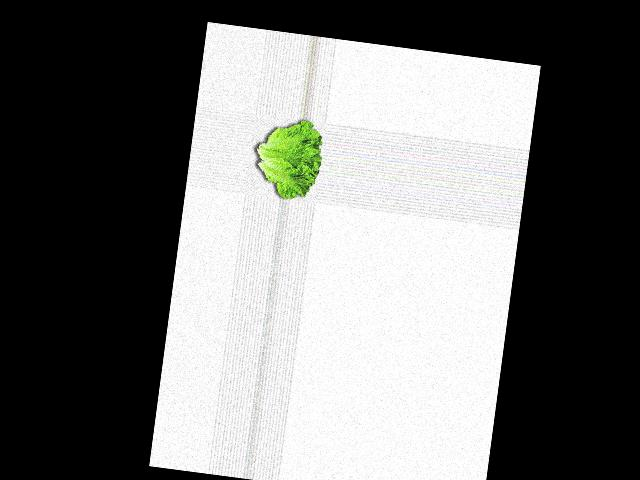lettuce: (248, 116, 325, 204)
